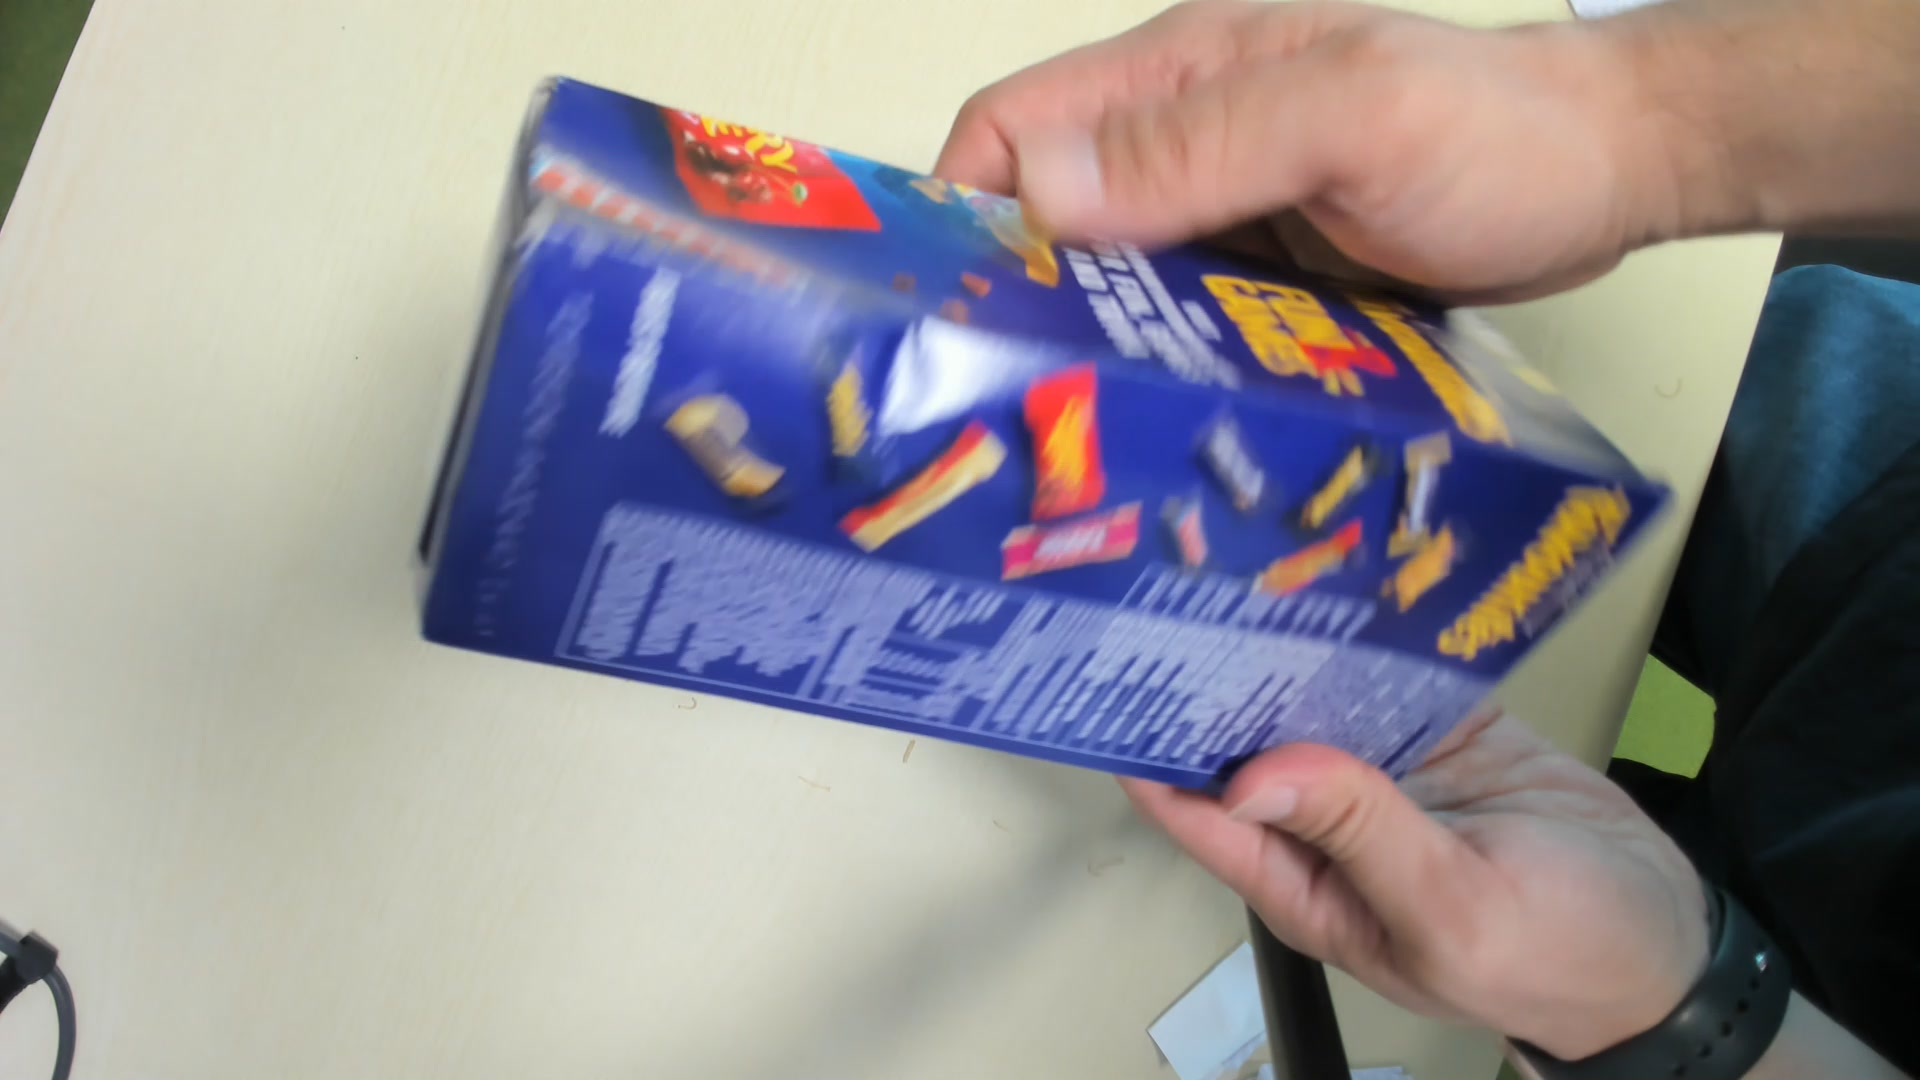SweetsChocolatesOthers_300-399g_NonHalal_Nonhealthy: (414, 80, 1664, 825)
